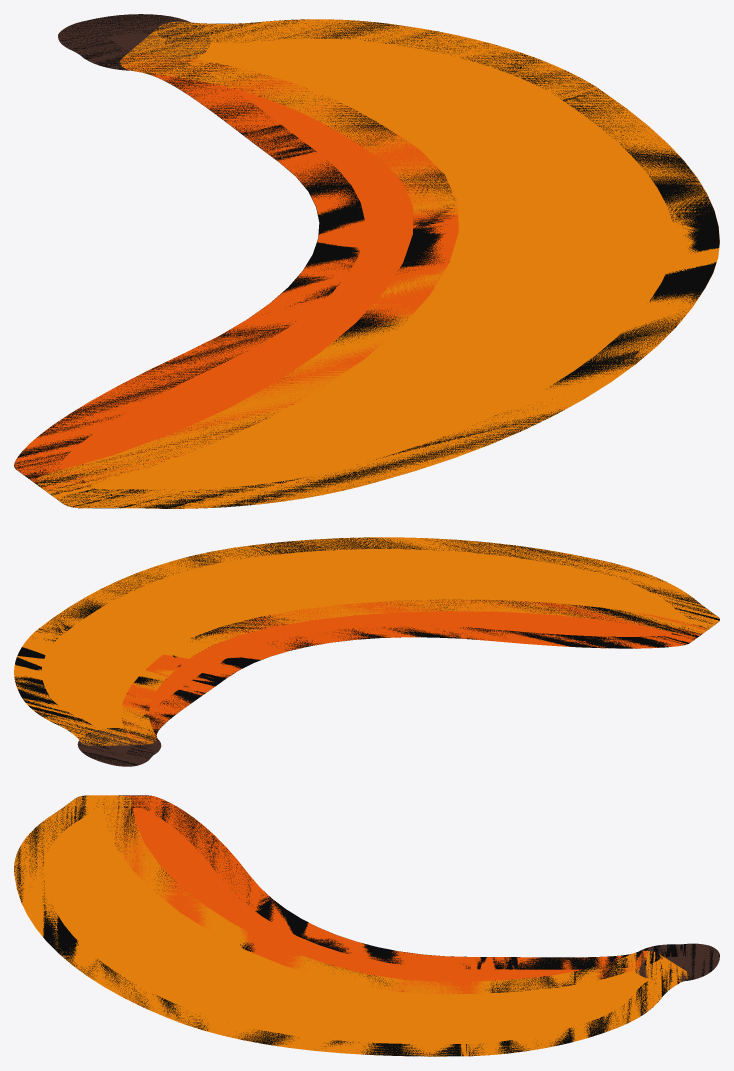
File: banana.obj
3 renders of one model, top to bottom at view 1: azimuth 30°, elevation 25°; view 2: azimuth 150°, elevation 25°; view 3: azimuth 270°, elevation 25°, orthographic. The views are drawn at different scales.
Bounding box in the file's own units: 0.1266 × 0 × 0.1446.
